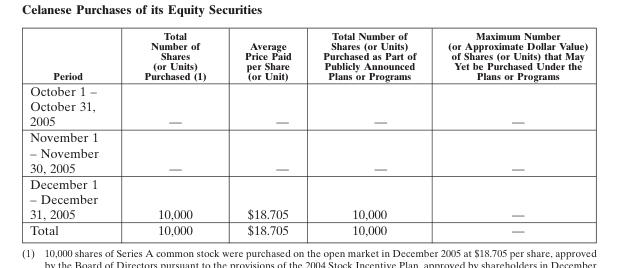table: (29, 29, 587, 237)
table column: (431, 29, 587, 237), (306, 29, 431, 237), (120, 29, 224, 237), (29, 29, 120, 237), (224, 29, 306, 237)
table column header: (29, 29, 587, 82)
table row: (29, 29, 587, 82), (29, 82, 587, 129), (29, 129, 587, 175), (29, 175, 587, 221), (29, 221, 587, 237)
